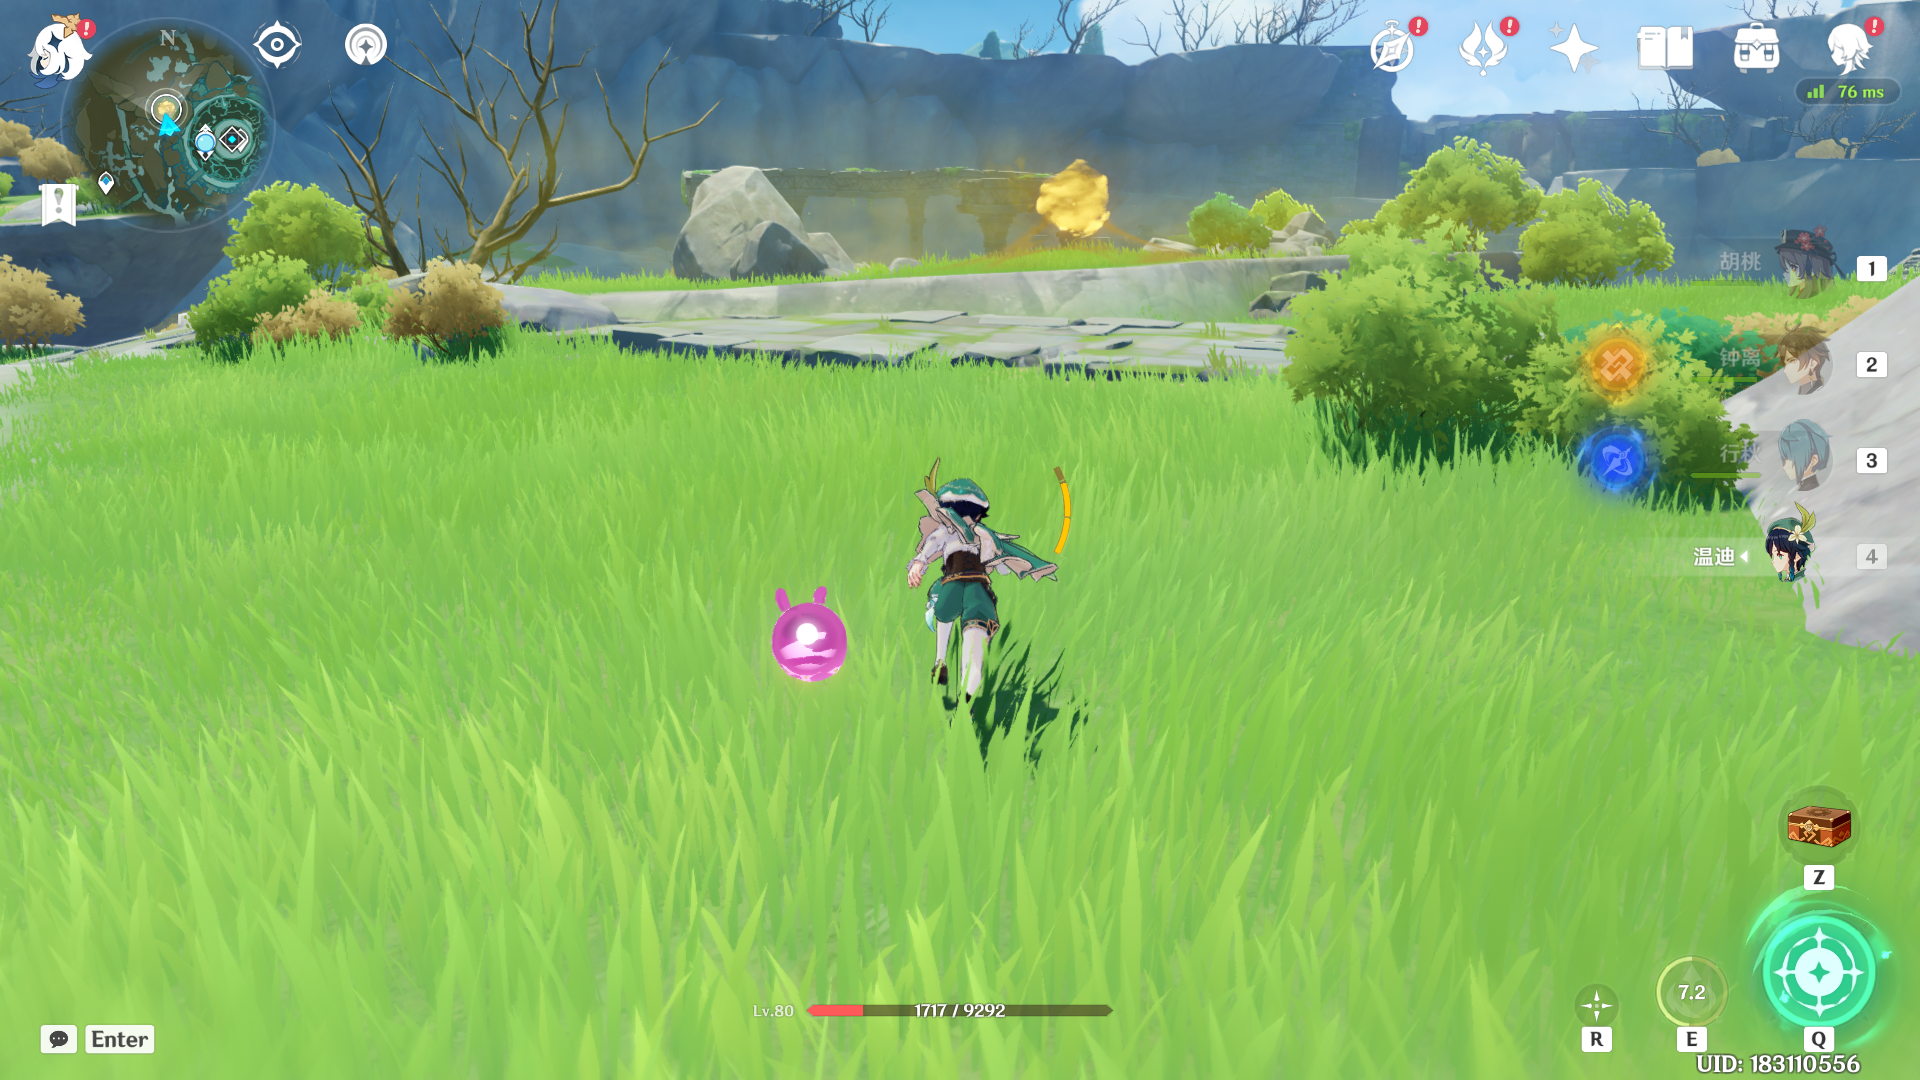character: (855, 438, 1095, 756)
